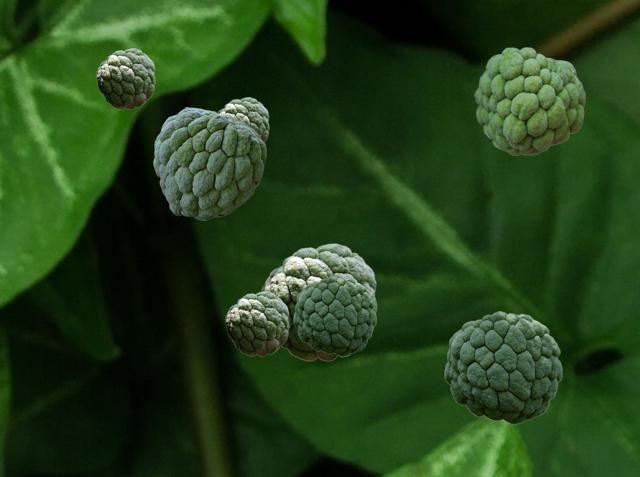atis: (261, 243, 376, 360), (444, 311, 561, 423), (153, 107, 265, 219), (474, 47, 584, 154), (293, 276, 375, 355), (225, 291, 288, 355), (96, 48, 154, 108), (218, 97, 268, 142)
